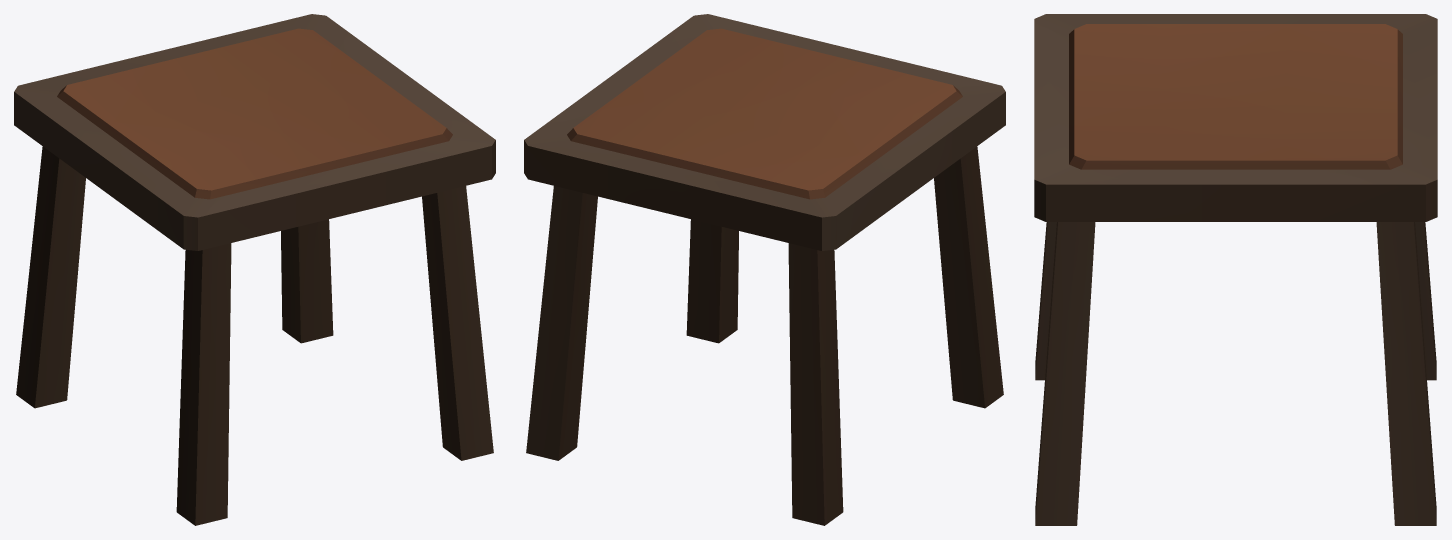
Rendered from SK_Chair_002.FBX.
The picture shows the model from 3 angles, left to right: view 1: azimuth 30°, elevation 25°; view 2: azimuth 150°, elevation 25°; view 3: azimuth 270°, elevation 25°; orthographic projection. The views are drawn at different scales.
Parts seen in each view (by area): view 1: SK_Chair_002; view 2: SK_Chair_002; view 3: SK_Chair_002.
Part boxes in pixels (x1,y1,x2,y2): SK_Chair_002: (14,14,495,525); SK_Chair_002: (524,14,1005,525); SK_Chair_002: (1034,14,1437,525).
Bounding box in the file's own units: 36.37 × 35.03 × 36.37.
Materials: 1 (1 with a texture image).
